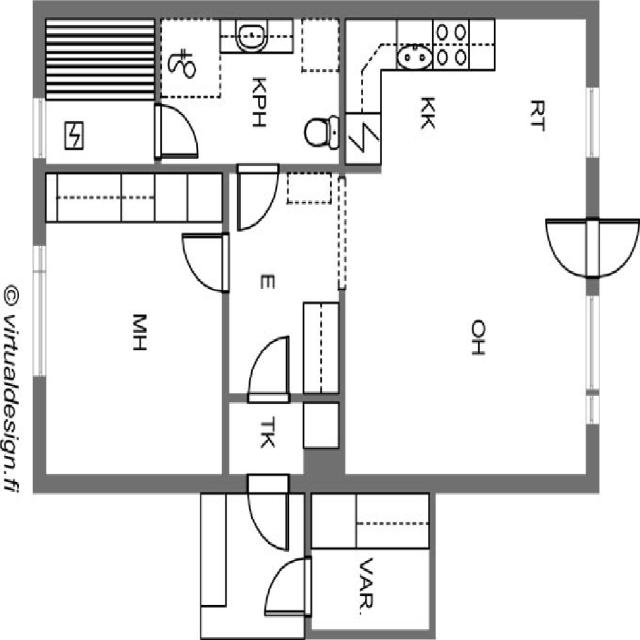door: (587, 216, 640, 280), (245, 482, 289, 553), (544, 216, 592, 280), (246, 331, 291, 399), (262, 554, 309, 616), (237, 166, 280, 233), (182, 233, 228, 292), (157, 100, 200, 156)
window: (29, 242, 51, 382), (580, 286, 604, 397), (580, 76, 605, 167), (31, 94, 47, 162), (582, 386, 603, 430)
zone: (344, 7, 591, 483), (41, 169, 228, 484), (158, 12, 342, 162), (228, 170, 342, 408), (38, 11, 160, 167), (307, 494, 431, 633), (597, 0, 640, 217), (227, 401, 306, 480), (158, 18, 219, 92)
